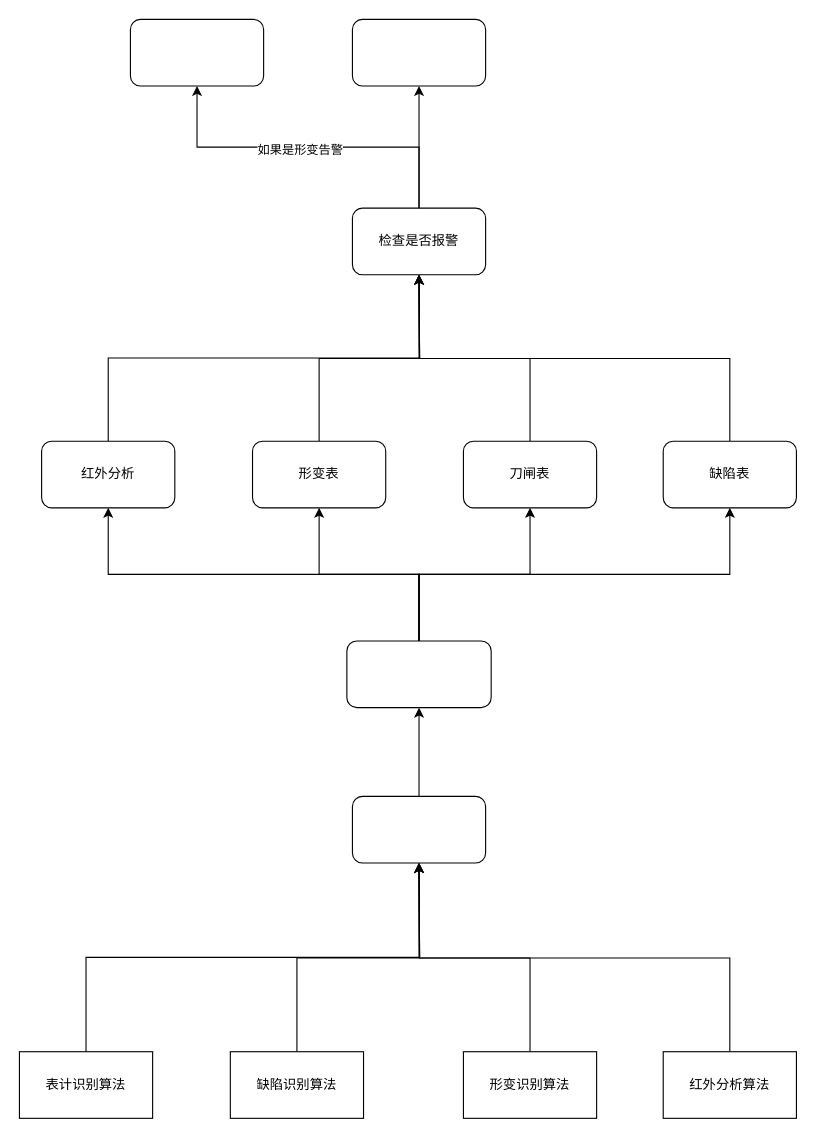
Image size: 816x1138. Some labels were removed from this diagram. Here are the shapes that lost their labels. From the top down, the box of each, then its label:
(129, 18, 264, 86): 入库形变deformationAlarmHistory
(351, 18, 486, 86): 入库pointAlarmHistory
(346, 640, 491, 708): 入库PointHistory表
(351, 795, 486, 863): 接收算法识别结果
